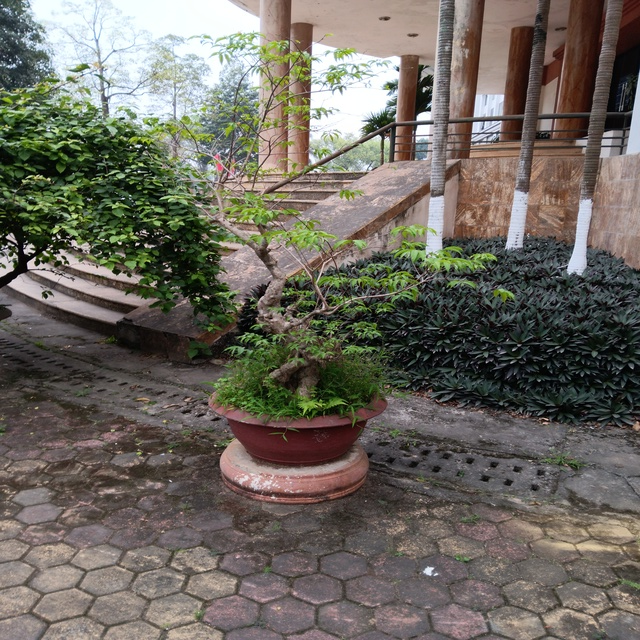caycanh: (164, 78, 406, 523)
